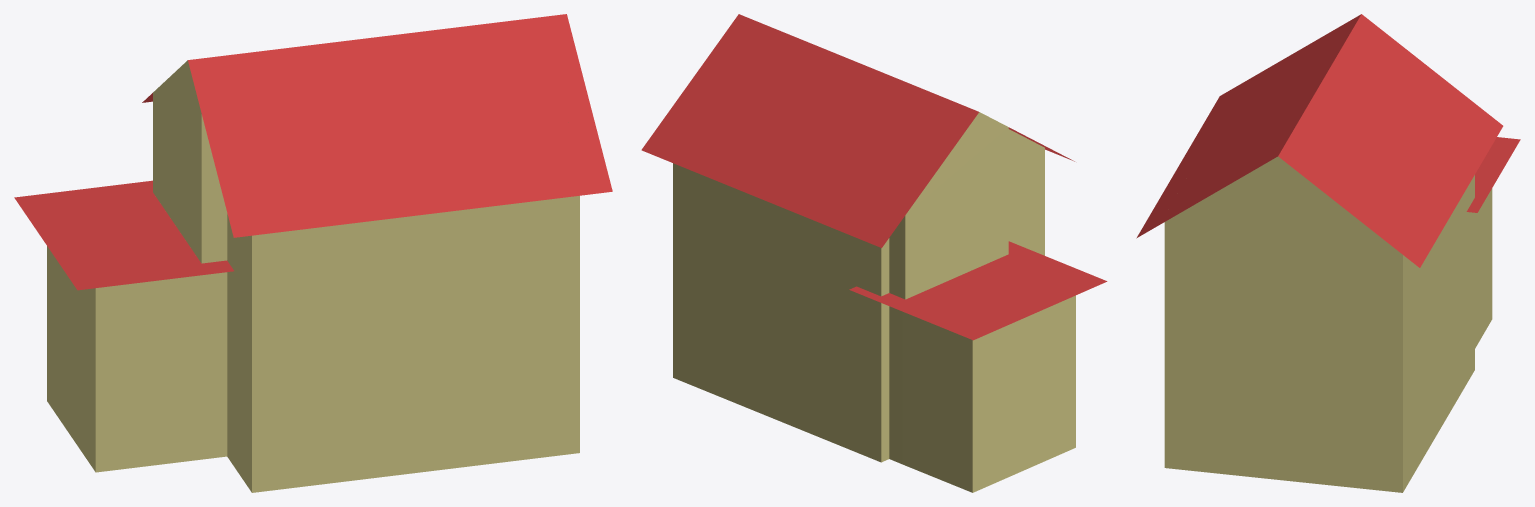
3 views of the same model, side by side, from view 1: azimuth 30°, elevation 25°; view 2: azimuth 150°, elevation 25°; view 3: azimuth 270°, elevation 25° (orthographic). The views are drawn at different scales.
Visible parts, largest first — view 1: group_5, group_3, group_9, group_7, group_4, group_8; view 2: group_5, group_3, group_9, group_7, group_8, group_4; view 3: group_5, group_3, group_4, group_9, group_7, group_8.
Part boxes in pixels (x1,y1,x2,y2): group_5: [153, 60, 579, 492]; group_3: [142, 14, 611, 237]; group_9: [47, 246, 201, 472]; group_7: [14, 180, 233, 290]; group_4: [143, 14, 612, 191]; group_8: [16, 181, 233, 289]; group_5: [673, 112, 1044, 465]; group_3: [641, 14, 978, 247]; group_9: [905, 295, 1075, 492]; group_7: [849, 241, 1107, 340]; group_8: [854, 241, 1105, 339]; group_4: [732, 14, 1074, 247]; group_5: [1164, 156, 1474, 492]; group_3: [1137, 14, 1503, 267]; group_4: [1137, 99, 1502, 237]; group_9: [1475, 188, 1492, 348]; group_7: [1467, 137, 1520, 212]; group_8: [1467, 140, 1519, 211].
Size of the model in its own units: 21.53 by 16.39 by 15.7.
